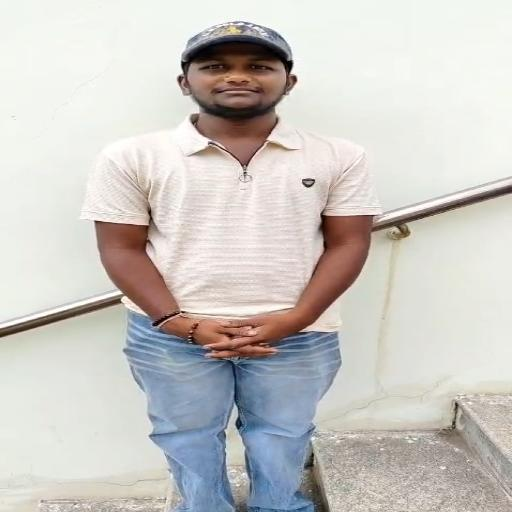employee-detectio-system: (72, 22, 390, 304)
